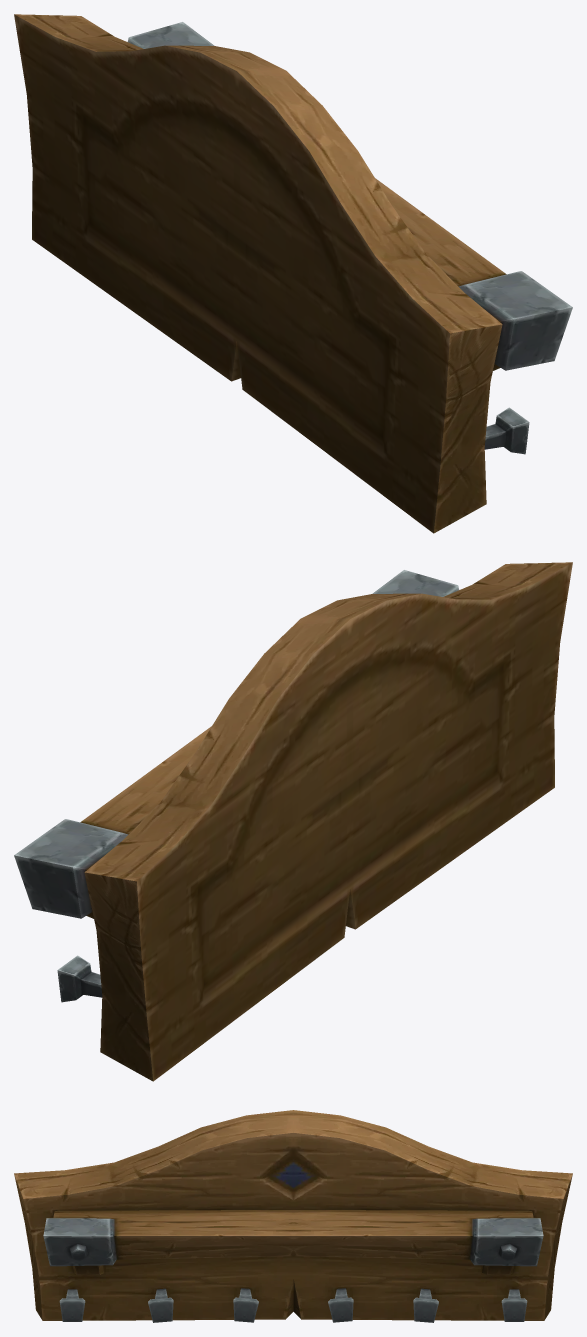
3 renders of one model, top to bottom at view 1: azimuth 30°, elevation 25°; view 2: azimuth 150°, elevation 25°; view 3: azimuth 270°, elevation 25°, orthographic. The views are drawn at different scales.
Bounding box in the file's own units: 0.9373 × 1.87 × 4.71.
1 material, 1 textured.
